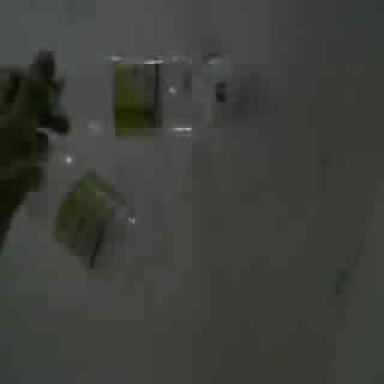bottle: (56, 49, 213, 144), (26, 142, 136, 267)
